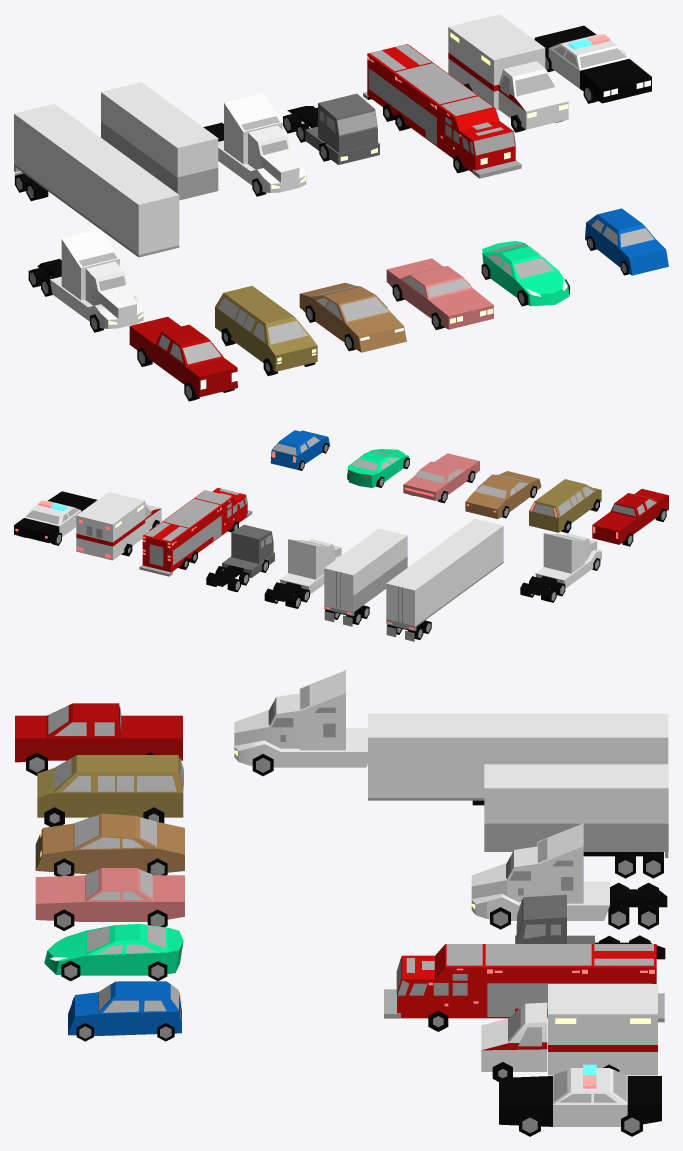
Rendered from Low Poly Vehicals.glb.
The picture shows the model from 3 angles, top to bottom: view 1: azimuth 30°, elevation 25°; view 2: azimuth 150°, elevation 25°; view 3: azimuth 270°, elevation 25°; orthographic projection. The views are drawn at different scales.
Visible parts, largest first — view 1: BigTruck_Trailer_1_1, FireTruck_1, Ambulance_1, BigTruck_Trailer_2, BigTruck_3, BigTruck_1, OldVan_1, PoliceCar_1, PickupTruck_1, Sedan_1, BigTruck_2, MuscleCar_1 (+2 smaller); view 2: BigTruck_Trailer_1_1, FireTruck_1, BigTruck_Trailer_2, Ambulance_1, BigTruck_3, BigTruck_1, BigTruck_2, PickupTruck_1, OldVan_1, PoliceCar_1, Sedan_1, MuscleCar_1 (+2 smaller); view 3: BigTruck_Trailer_1_1, BigTruck_Trailer_2, FireTruck_1, Ambulance_1, BigTruck_1, BigTruck_3, PoliceCar_1, OldVan_1, PickupTruck_1, Sedan_1, MuscleCar_1, SportsCar_1 (+2 smaller).
Boxes of the visible parts, x1,y1,x2,y2 form: BigTruck_Trailer_1_1: (14,104,179,257); FireTruck_1: (363,44,521,178); Ambulance_1: (448,14,568,132); BigTruck_Trailer_2: (101,82,218,200); BigTruck_3: (28,229,143,332); BigTruck_1: (203,93,306,196); OldVan_1: (215,285,317,375); PoliceCar_1: (534,25,651,103); PickupTruck_1: (129,316,237,401); Sedan_1: (299,282,406,352); BigTruck_2: (283,93,379,164); MuscleCar_1: (386,258,493,329); BigTruck_Trailer_1_1: (386,518,503,641); FireTruck_1: (139,488,252,576); BigTruck_Trailer_2: (324,528,407,626); Ambulance_1: (76,492,161,560); BigTruck_3: (520,533,601,602); BigTruck_1: (264,539,341,608); BigTruck_2: (206,524,274,592); PickupTruck_1: (592,489,668,546); OldVan_1: (529,479,601,533); PoliceCar_1: (14,491,96,545); Sedan_1: (465,471,541,518); MuscleCar_1: (403,453,479,503); BigTruck_Trailer_1_1: (368,713,668,805); BigTruck_Trailer_2: (484,764,668,878); FireTruck_1: (384,944,664,1031); Ambulance_1: (481,984,657,1081); BigTruck_1: (471,823,667,929); BigTruck_3: (234,670,367,776); PoliceCar_1: (499,1064,661,1136); OldVan_1: (37,755,183,826); PickupTruck_1: (15,703,182,775); Sedan_1: (35,813,184,876); MuscleCar_1: (35,868,184,930); SportsCar_1: (44,924,183,981).
Size of the model in its own units: 144 by 15.85 by 103.
